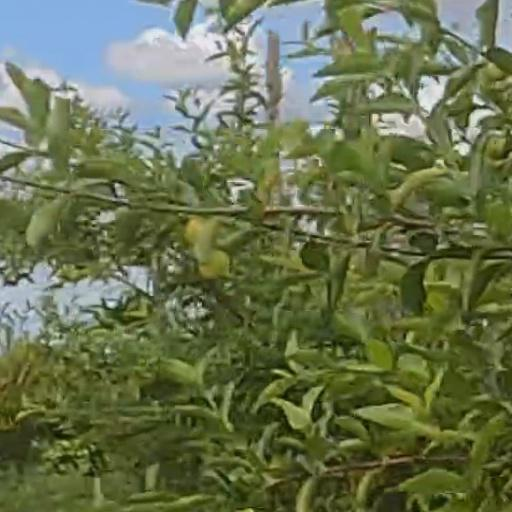acerola_verde: (198, 251, 229, 278)
